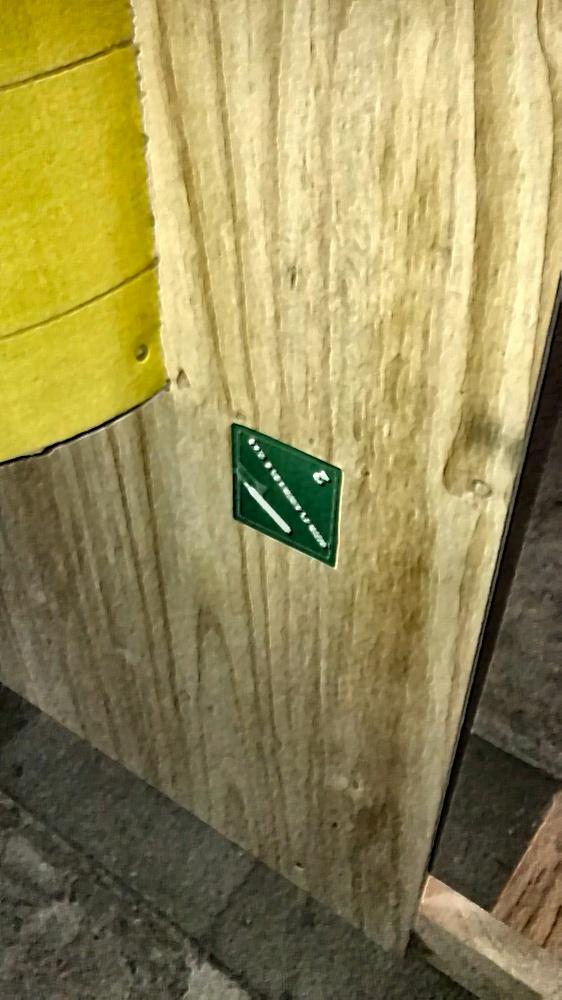non-flammable-gas: (225, 432, 353, 560)
